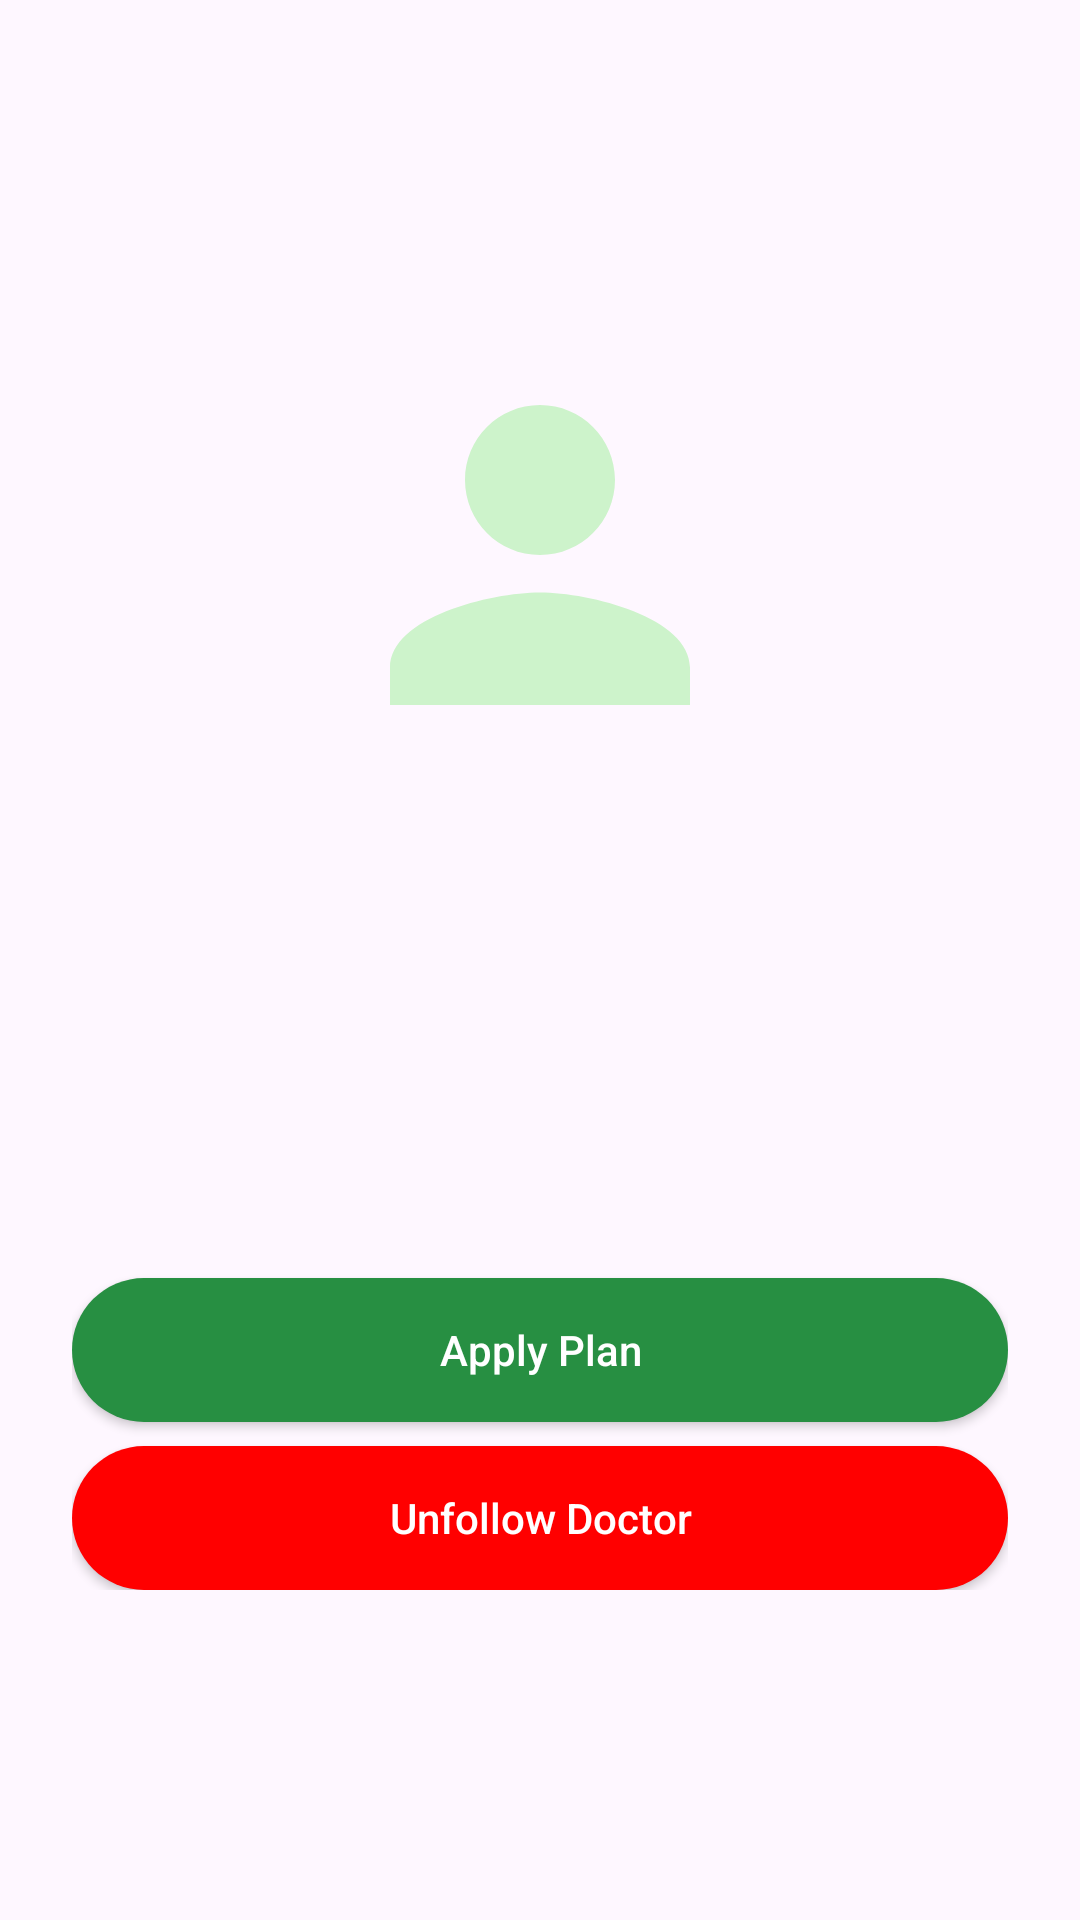

Where icons sit on this 1080 × 1920 app screen, as [x1,y1,x2,y2]:
login person: [390,405,690,705]
